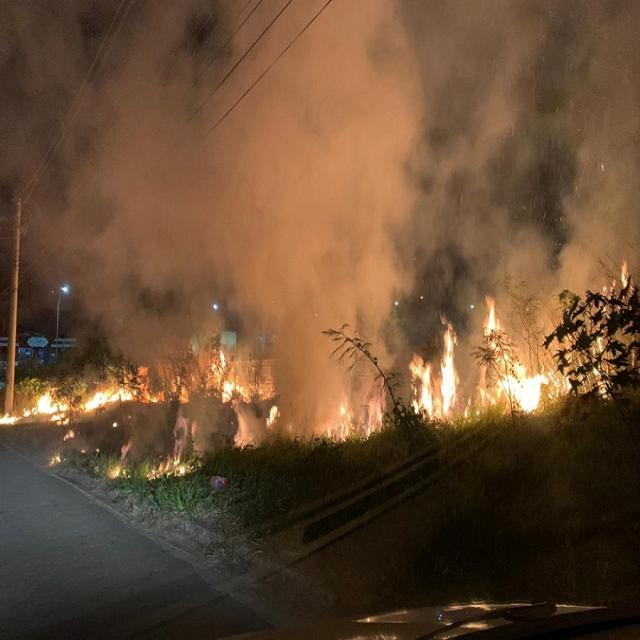Fire: (472, 298, 546, 414), (408, 320, 459, 426), (2, 392, 69, 424), (208, 352, 246, 403), (80, 384, 134, 410), (145, 458, 190, 478), (262, 406, 280, 432)
Smoke: (80, 279, 228, 355), (474, 10, 548, 160), (9, 199, 88, 295), (414, 132, 474, 255), (555, 181, 615, 298), (358, 236, 410, 368), (165, 396, 219, 452), (228, 398, 260, 450)
